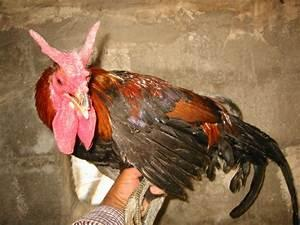hen: (27, 19, 299, 224)
